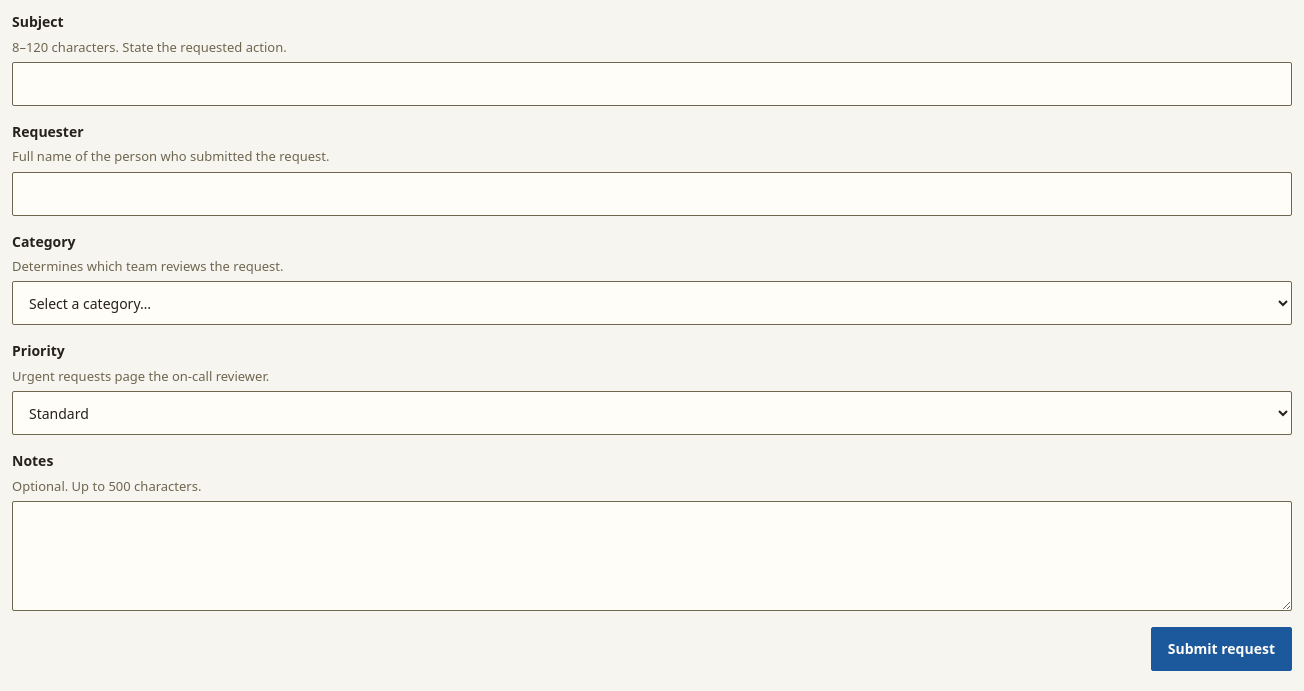
Test: RequestForm › submits the entered values and resets after success
The image size is (1304, 691).
In the field labelled "Subject": {"x": 652, "y": 84} 12,62 -> 1292,106, type "Refund a duplicated annual charge"
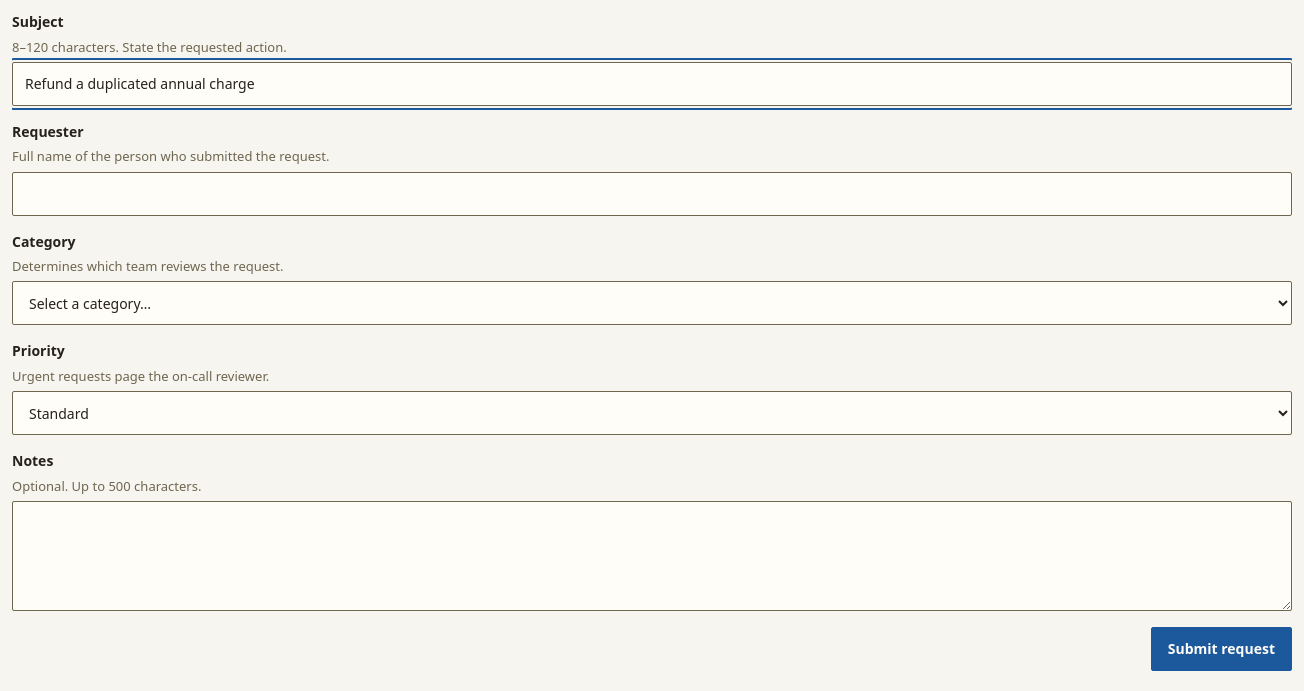
In the field labelled "Requester": {"x": 652, "y": 194} 12,172 -> 1292,216, type "Dana Okafor"
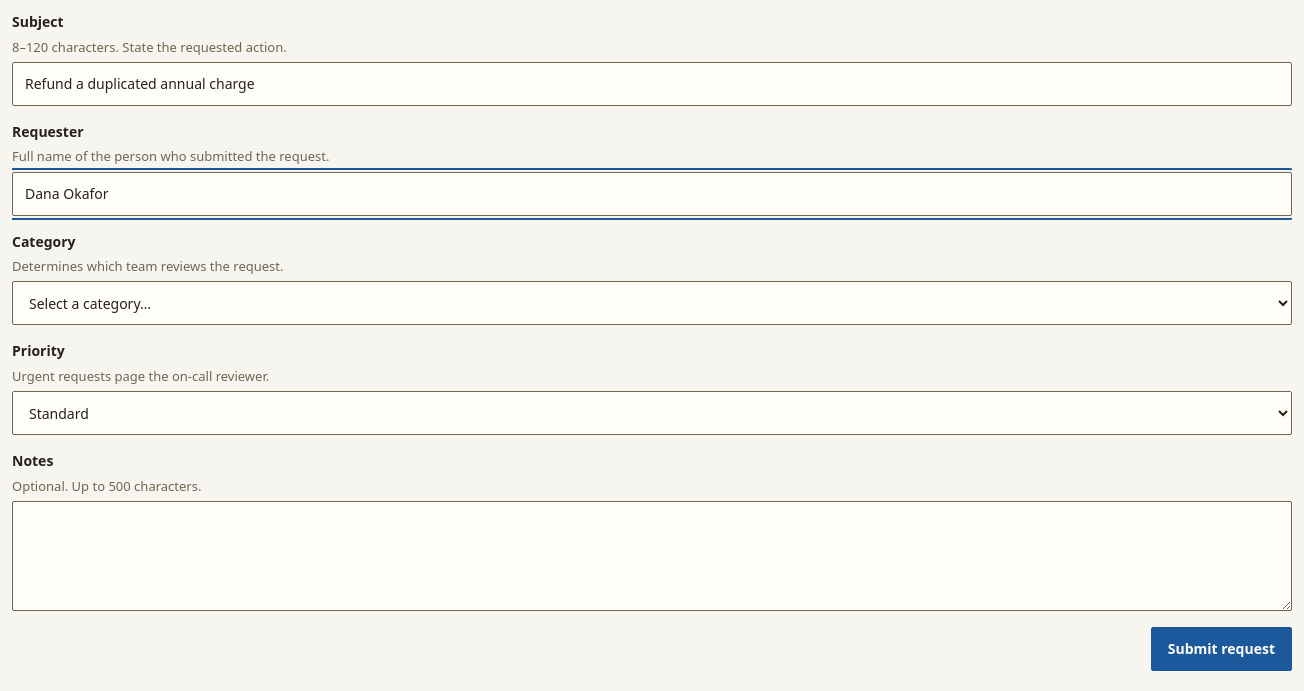
Select "Payout" in the dropdown labelled "Category": {"x": 652, "y": 303} 12,281 -> 1292,325
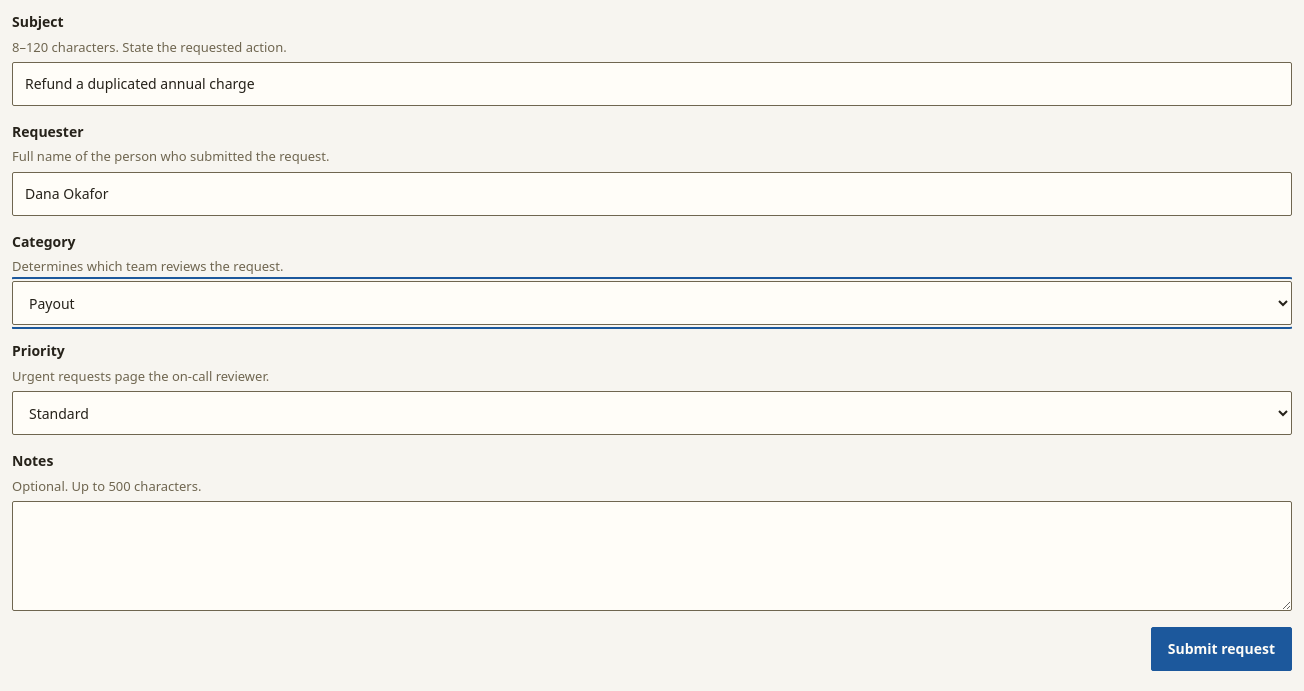
Click the button "Submit request": {"x": 1221, "y": 649} 1151,627 -> 1292,671
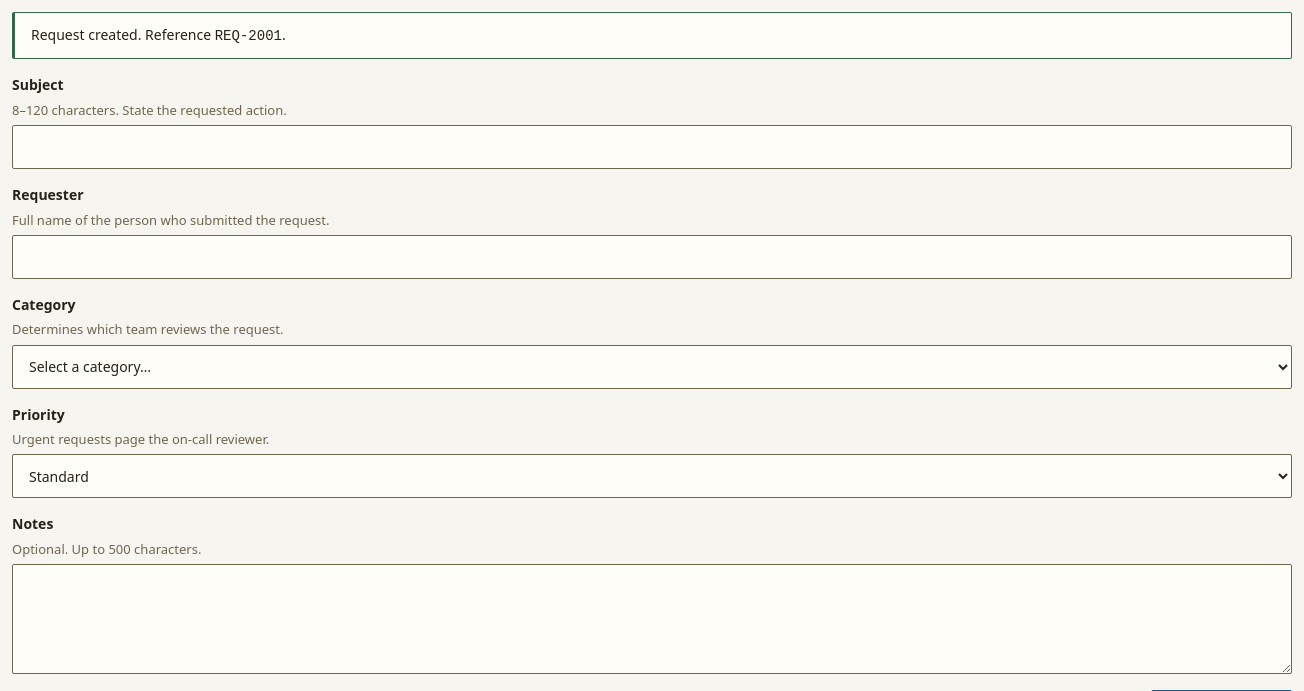
Check: the message reads "Request created. Reference REQ-2001.", box 12,12 -> 1292,59
Check: the field labelled "Subject" is empty, box 12,125 -> 1292,169
